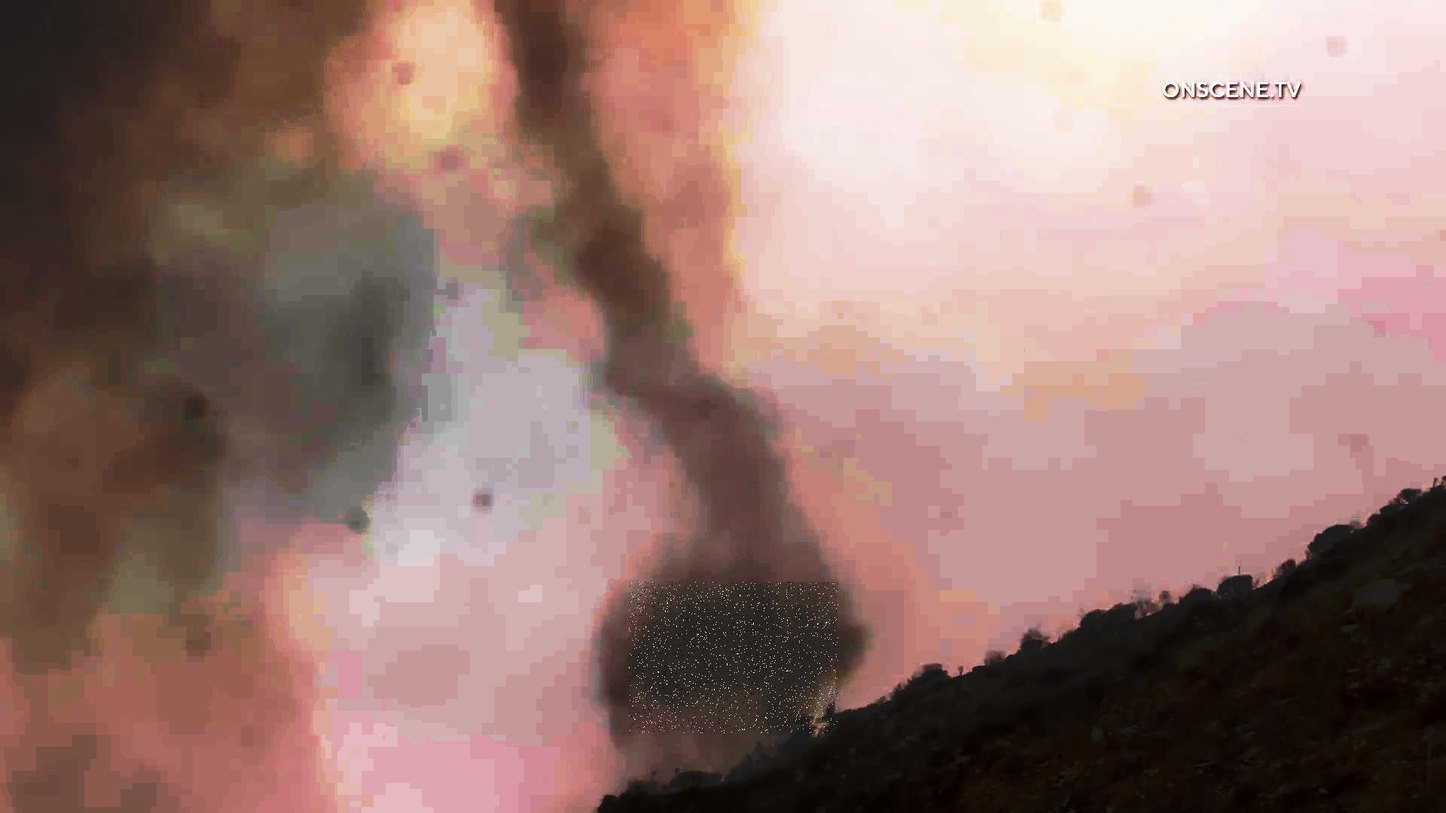smoke: (629, 582, 838, 733)
